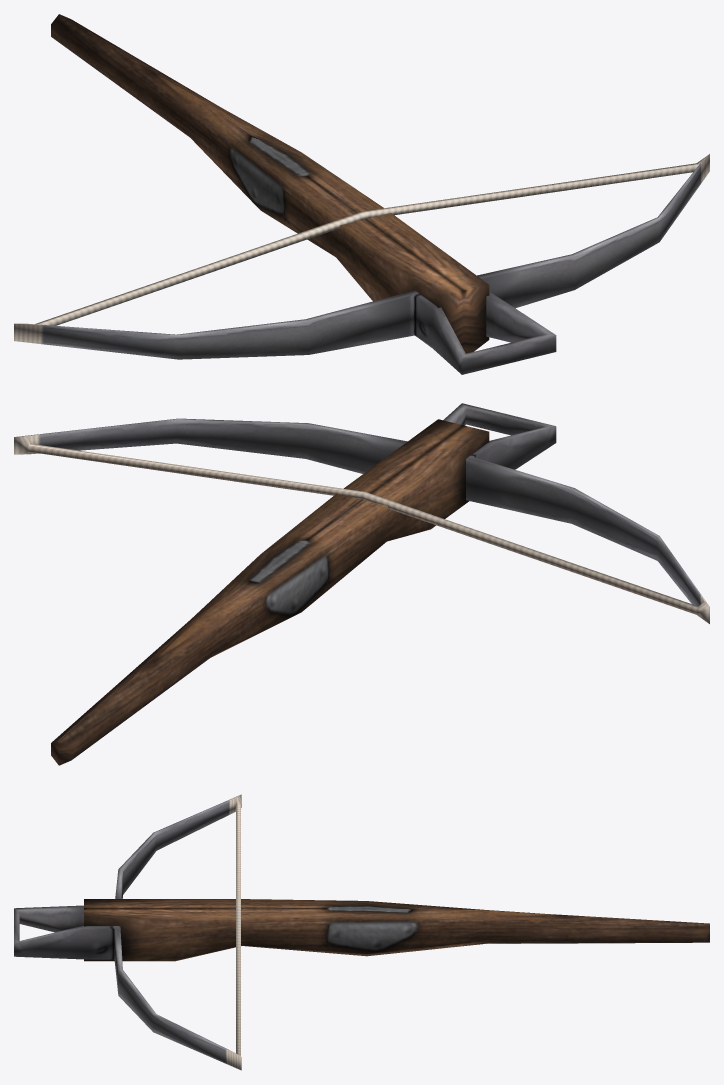
File: MedievalCrossbow.fbx
The picture shows the model from 3 angles, top to bottom: view 1: azimuth 30°, elevation 25°; view 2: azimuth 150°, elevation 25°; view 3: azimuth 270°, elevation 25°; orthographic projection. The views are drawn at different scales.
Parts seen in each view (by area): view 1: MedievalCrossbow; view 2: MedievalCrossbow; view 3: MedievalCrossbow.
Part boxes in pixels (x1=…): MedievalCrossbow: x1=14, y1=14, x2=709, y2=374; MedievalCrossbow: x1=14, y1=403, x2=709, y2=765; MedievalCrossbow: x1=14, y1=794, x2=709, y2=1070.
Bounding box in the file's own units: 0.8976 × 0.0909 × 1.01.
